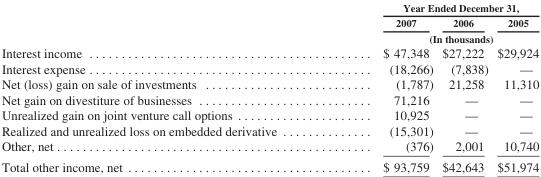table: (0, 1, 538, 173)
table column: (0, 1, 329, 173), (329, 1, 437, 173), (437, 1, 492, 173), (492, 1, 538, 173)
table column header: (0, 1, 538, 44)
table row: (0, 138, 538, 156), (0, 156, 538, 173), (0, 14, 538, 30), (0, 44, 538, 60), (0, 60, 538, 76), (0, 91, 538, 107), (0, 122, 538, 138), (0, 76, 538, 91), (0, 107, 538, 122), (0, 30, 538, 44), (0, 1, 538, 14)
table spanning cell: (329, 30, 538, 44), (329, 1, 538, 14)
